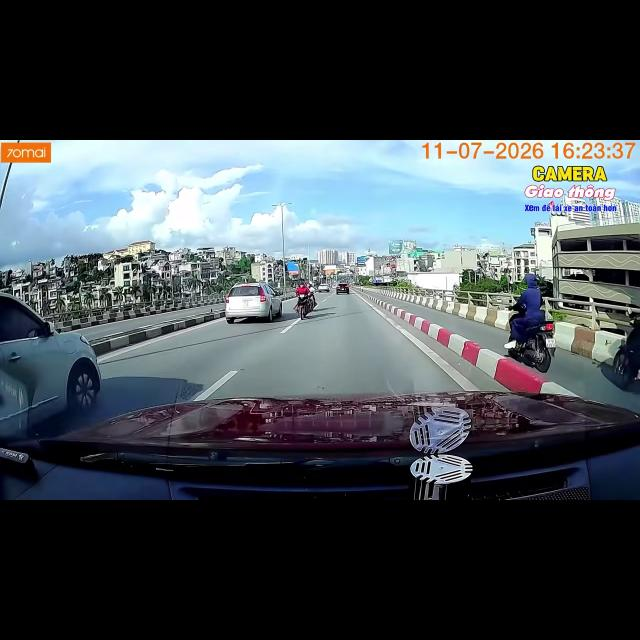car: (0, 293, 100, 437), (225, 283, 282, 323), (336, 283, 349, 294), (317, 284, 330, 292), (332, 284, 337, 288)
motorcycle: (508, 321, 556, 372), (613, 310, 639, 389), (296, 294, 309, 319)
